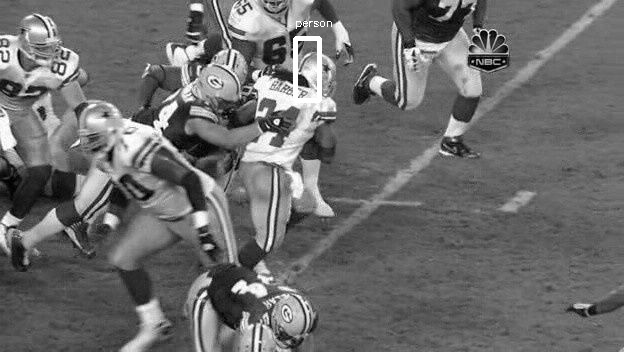person: (303, 51, 337, 94), (302, 51, 336, 94), (304, 51, 338, 94), (303, 50, 337, 93), (303, 52, 337, 95)
target_negative: (381, 97, 560, 248), (170, 156, 265, 339), (269, 148, 369, 317), (476, 228, 598, 335), (233, 317, 252, 340), (189, 351, 296, 352)
